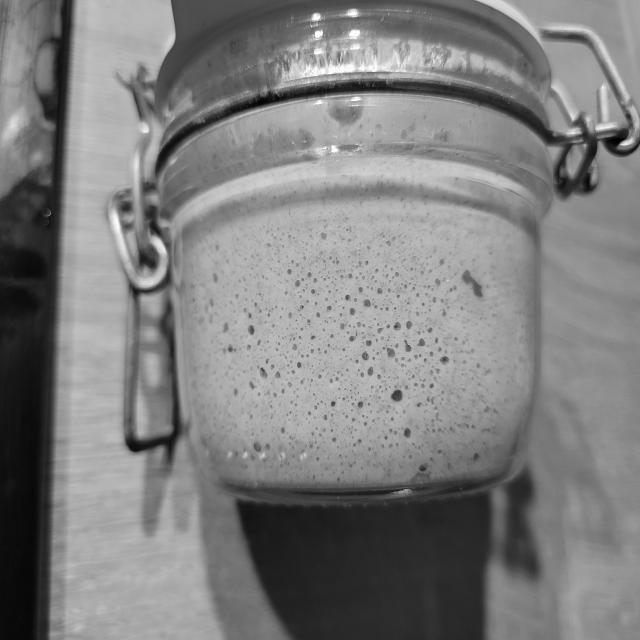bubble: (462, 269, 483, 297), (391, 389, 403, 401), (419, 463, 429, 472), (387, 347, 395, 358), (405, 340, 412, 352), (253, 442, 261, 452), (260, 367, 267, 378), (441, 356, 450, 364), (367, 366, 374, 376), (394, 322, 402, 330), (473, 452, 480, 461), (405, 428, 411, 438), (362, 352, 369, 360), (419, 338, 426, 346), (248, 325, 254, 334), (407, 320, 413, 329), (435, 277, 441, 286), (364, 299, 371, 306), (439, 258, 446, 265), (227, 344, 233, 352), (213, 273, 218, 282), (223, 323, 228, 332), (350, 308, 356, 315), (358, 401, 364, 408), (321, 232, 327, 239), (275, 371, 281, 378), (377, 287, 383, 294), (366, 339, 372, 346), (437, 449, 443, 456), (413, 382, 419, 389), (249, 381, 254, 389), (233, 388, 238, 396), (265, 443, 270, 451), (281, 426, 286, 434), (442, 308, 447, 316), (383, 263, 389, 269), (377, 327, 383, 333), (417, 402, 423, 408), (295, 279, 300, 286), (292, 343, 297, 350), (340, 323, 345, 330), (438, 345, 443, 352), (346, 294, 351, 300), (310, 335, 316, 340), (310, 348, 315, 354), (253, 301, 258, 307), (331, 401, 336, 407), (350, 335, 355, 341), (386, 239, 391, 245), (392, 235, 397, 241), (351, 417, 356, 423), (421, 383, 426, 389), (307, 318, 311, 325), (357, 320, 361, 327), (435, 336, 439, 343), (299, 305, 304, 310), (314, 405, 319, 410), (332, 437, 337, 442), (307, 272, 312, 277), (348, 273, 353, 278), (428, 327, 433, 332), (287, 268, 291, 274), (297, 362, 301, 368), (288, 312, 292, 318), (311, 288, 315, 294), (248, 312, 252, 318), (247, 344, 251, 350), (257, 339, 261, 345), (327, 342, 331, 348), (291, 259, 295, 265), (359, 286, 363, 292), (416, 292, 420, 298), (415, 355, 419, 361), (427, 396, 431, 402), (433, 296, 437, 302), (342, 346, 346, 352), (430, 351, 434, 357), (270, 364, 274, 369), (265, 359, 269, 364), (316, 312, 320, 317), (327, 305, 331, 310), (243, 307, 247, 312), (267, 312, 271, 317), (288, 382, 292, 387), (273, 392, 277, 397), (318, 374, 322, 379), (329, 378, 333, 383), (308, 411, 312, 416), (323, 415, 327, 420), (295, 262, 299, 267), (358, 261, 362, 266), (395, 271, 399, 276), (384, 273, 389, 277), (405, 385, 409, 390), (430, 383, 434, 388), (364, 422, 368, 427), (453, 284, 457, 289), (455, 336, 459, 341), (463, 359, 467, 364), (378, 306, 383, 310), (395, 430, 398, 436), (291, 370, 295, 374), (335, 377, 339, 381), (316, 457, 320, 461), (313, 278, 317, 282), (375, 268, 379, 272), (402, 363, 406, 367), (358, 439, 362, 443), (355, 359, 359, 363), (432, 429, 436, 433), (310, 444, 313, 449), (331, 333, 334, 338), (324, 349, 327, 354), (378, 374, 381, 379), (410, 266, 413, 271), (390, 428, 393, 433), (391, 417, 394, 422), (412, 373, 415, 378), (361, 372, 364, 377), (271, 324, 275, 327), (281, 389, 284, 393), (290, 400, 293, 404), (365, 260, 368, 264), (397, 294, 400, 298), (386, 306, 389, 310), (421, 270, 425, 273), (404, 284, 407, 288), (408, 358, 411, 362), (424, 358, 427, 362), (385, 436, 388, 440), (368, 403, 371, 407), (439, 428, 442, 432), (278, 341, 280, 346), (396, 358, 398, 363), (300, 327, 303, 330), (301, 278, 304, 281), (402, 357, 405, 360), (374, 305, 377, 308), (276, 348, 278, 351)
